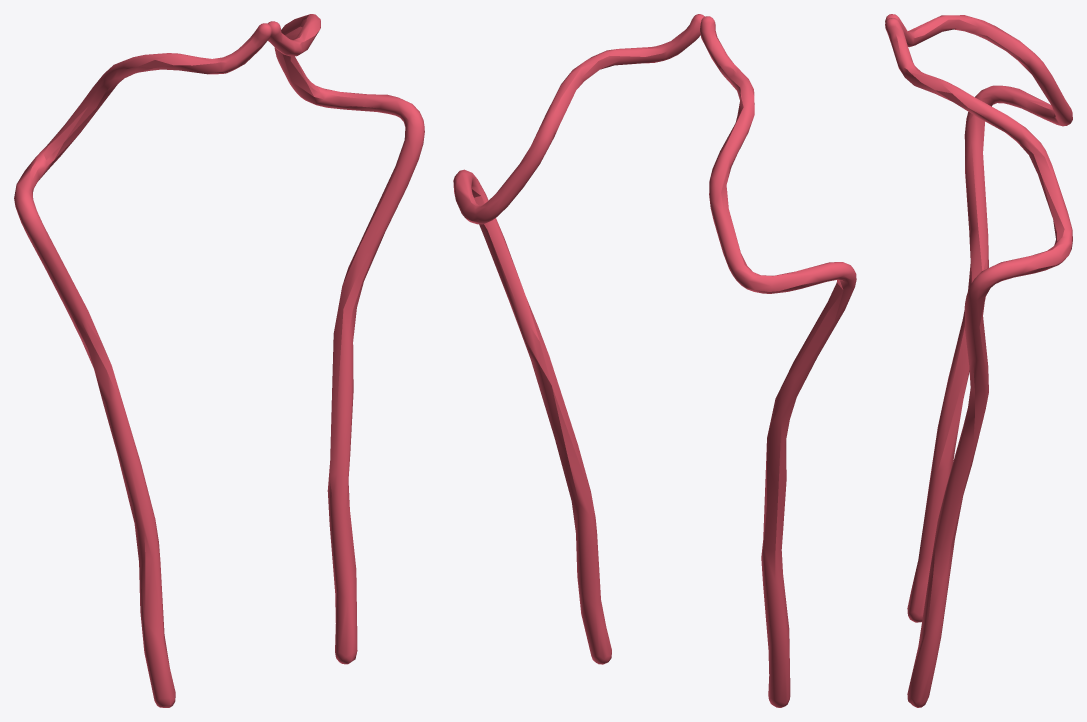
Rendered from vertebral.glb.
3 views of the same model, side by side, from view 1: azimuth 30°, elevation 25°; view 2: azimuth 150°, elevation 25°; view 3: azimuth 270°, elevation 25° (orthographic). The views are drawn at different scales.
Visible parts, largest first — view 1: grp1; view 2: grp1; view 3: grp1.
Part boxes in pixels (<box>): grp1: <box>14,14,424,707</box>; grp1: <box>453,14,856,707</box>; grp1: <box>885,14,1072,707</box>.
Size of the model in its own units: 0.0673 by 0.1076 by 0.0283.
